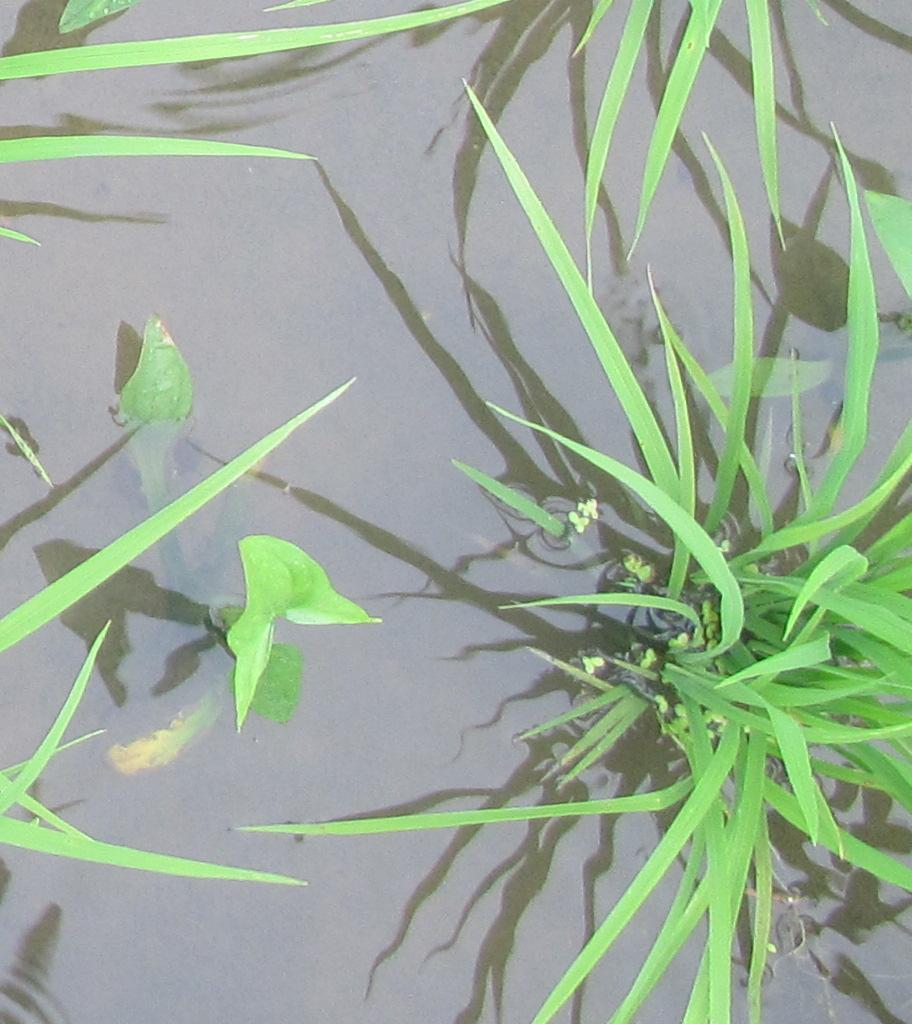Weed: (217, 524, 391, 707), (105, 310, 214, 502)
